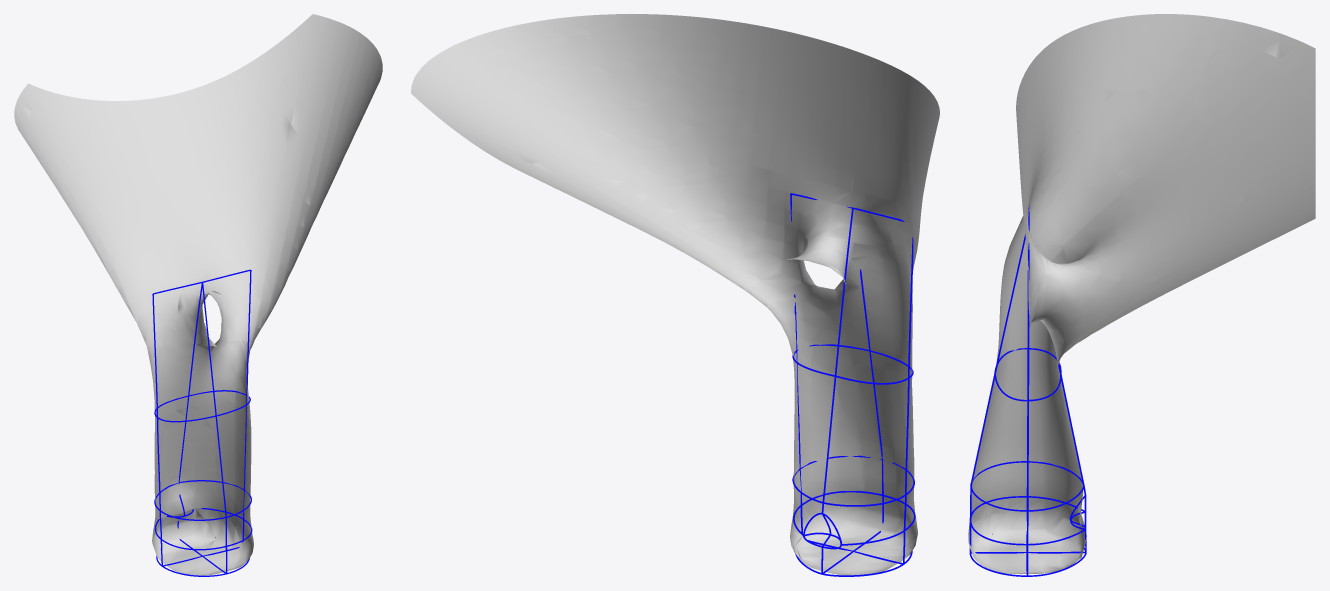
File: t2f_toothpaste_sketch_proxy.glb
3 renders of one model, left to right at view 1: azimuth 30°, elevation 25°; view 2: azimuth 150°, elevation 25°; view 3: azimuth 270°, elevation 25°, orthographic. The views are drawn at different scales.
Visible parts, largest first — view 1: t2f_toothpaste_surface, t2f_toothpaste; view 2: t2f_toothpaste_surface, t2f_toothpaste; view 3: t2f_toothpaste_surface, t2f_toothpaste.
Boxes of the visible parts, x1=… form: t2f_toothpaste_surface: x1=14, y1=14, x2=382, y2=575; t2f_toothpaste: x1=152, y1=269, x2=252, y2=576; t2f_toothpaste_surface: x1=411, y1=14, x2=939, y2=575; t2f_toothpaste: x1=790, y1=193, x2=915, y2=576; t2f_toothpaste_surface: x1=968, y1=14, x2=1315, y2=574; t2f_toothpaste: x1=969, y1=205, x2=1086, y2=576.
Bounding box in the file's own units: 1.23 × 1.31 × 0.8655.
